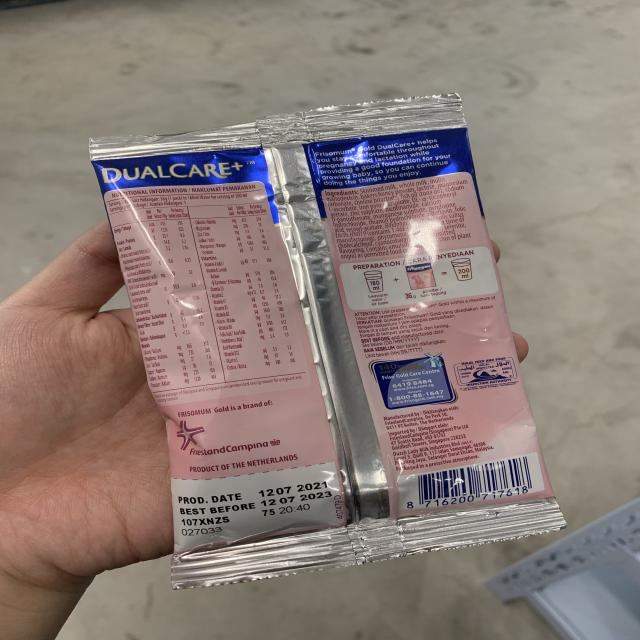object_name: (107, 144, 526, 529)
